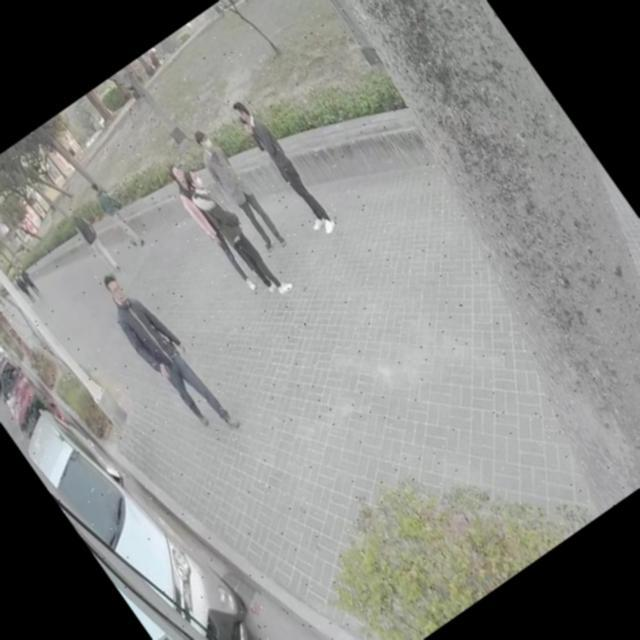person: (85, 254, 244, 450), (174, 152, 297, 308), (153, 149, 270, 298), (228, 94, 337, 236), (188, 125, 290, 258), (60, 200, 124, 276), (86, 174, 148, 251), (13, 260, 44, 298), (8, 268, 40, 304)
